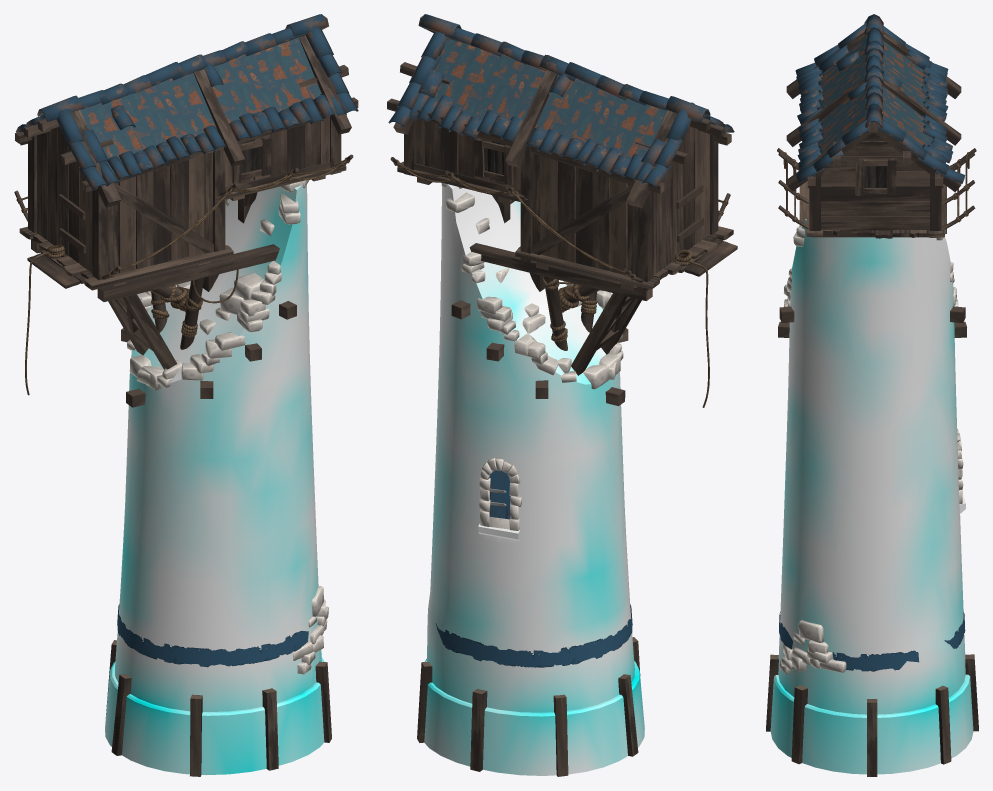
The model's file is SM_WindMill_SM_WindMill.fbx.
3 views of the same model, side by side, from view 1: azimuth 30°, elevation 25°; view 2: azimuth 150°, elevation 25°; view 3: azimuth 270°, elevation 25° (orthographic). The views are drawn at different scales.
Parts seen in each view (by area): view 1: SM_WindMill_SM_WindMill_LOD0; view 2: SM_WindMill_SM_WindMill_LOD0; view 3: SM_WindMill_SM_WindMill_LOD0.
Part boxes in pixels (x1,y1,x2,y2): SM_WindMill_SM_WindMill_LOD0: [14, 14, 358, 776]; SM_WindMill_SM_WindMill_LOD0: [387, 14, 737, 776]; SM_WindMill_SM_WindMill_LOD0: [766, 14, 978, 776].
Size of the model in its own units: 1032 by 672 by 2295.
Materials: 9 (8 with a texture image).
